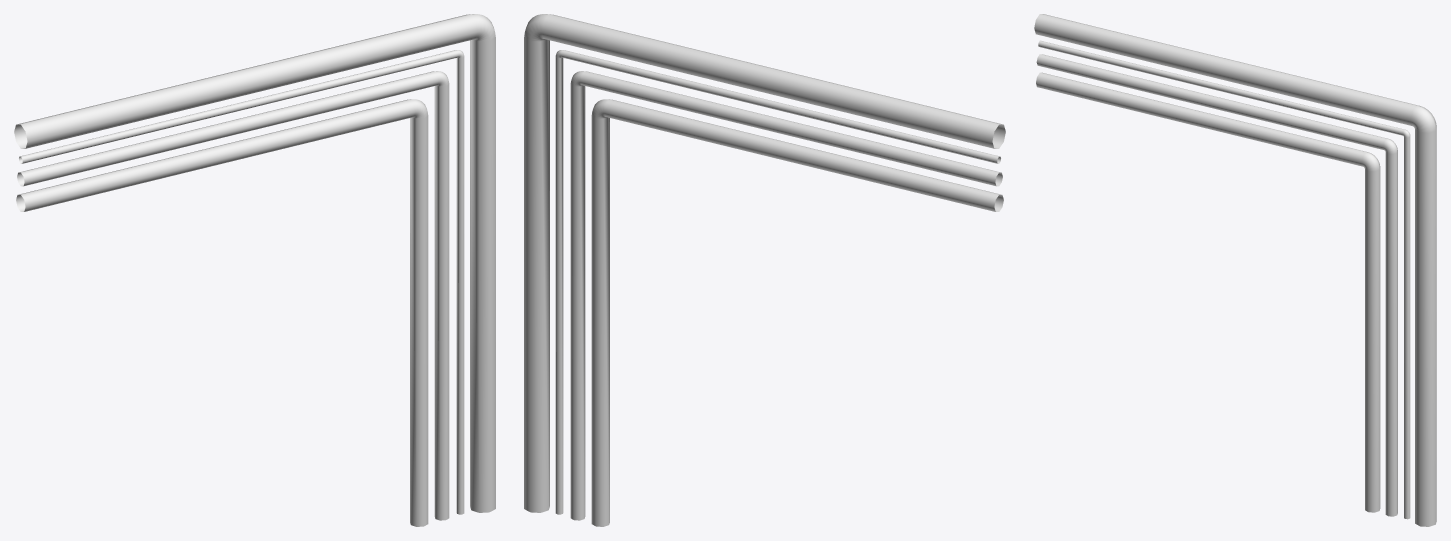
Rendered from Pipes.005 HD.003.fbx.
3 renders of one model, left to right at view 1: azimuth 30°, elevation 25°; view 2: azimuth 150°, elevation 25°; view 3: azimuth 330°, elevation 25°, orthographic. The views are drawn at different scales.
Parts seen in each view (by area): view 1: Pipes.005 HD.003; view 2: Pipes.005 HD.003; view 3: Pipes.005 HD.003.
Part boxes in pixels (bbox=[...]): Pipes.005 HD.003: bbox=[14, 14, 495, 526]; Pipes.005 HD.003: bbox=[524, 14, 1005, 526]; Pipes.005 HD.003: bbox=[1034, 14, 1436, 526].
Bounding box in the file's own units: 1.69 × 1.69 × 0.0832.
